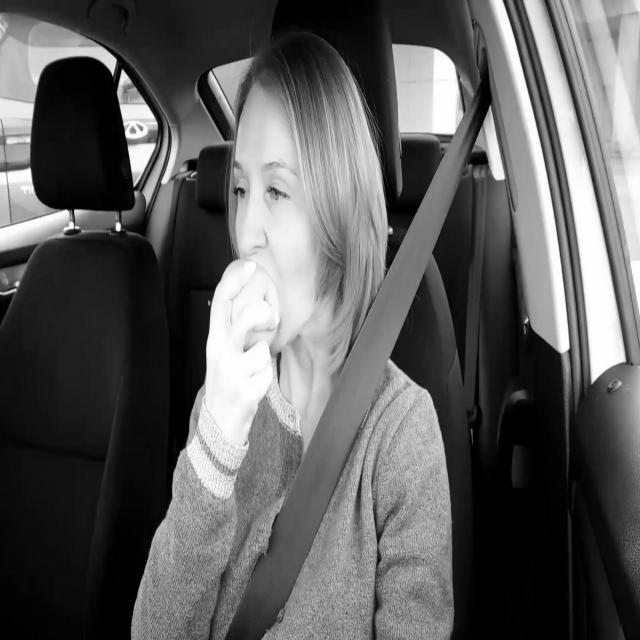Eating: (219, 253, 282, 362)
Seatbelt: (222, 64, 495, 640)
